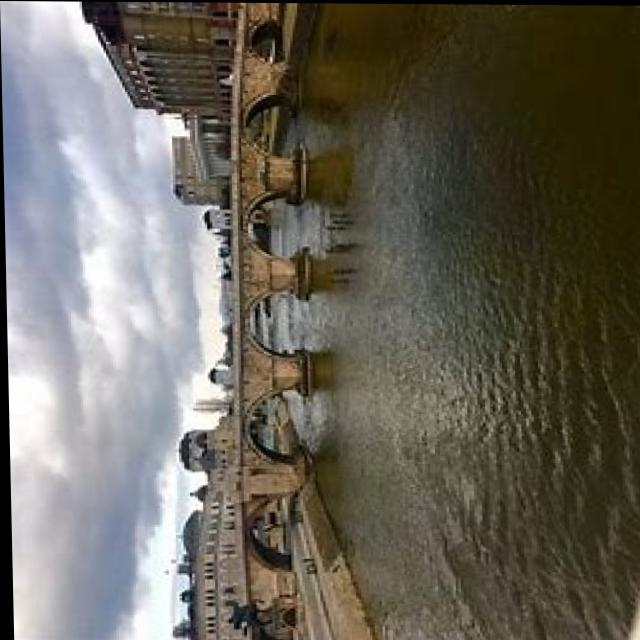Stone Bridge: (188, 1, 340, 640)
